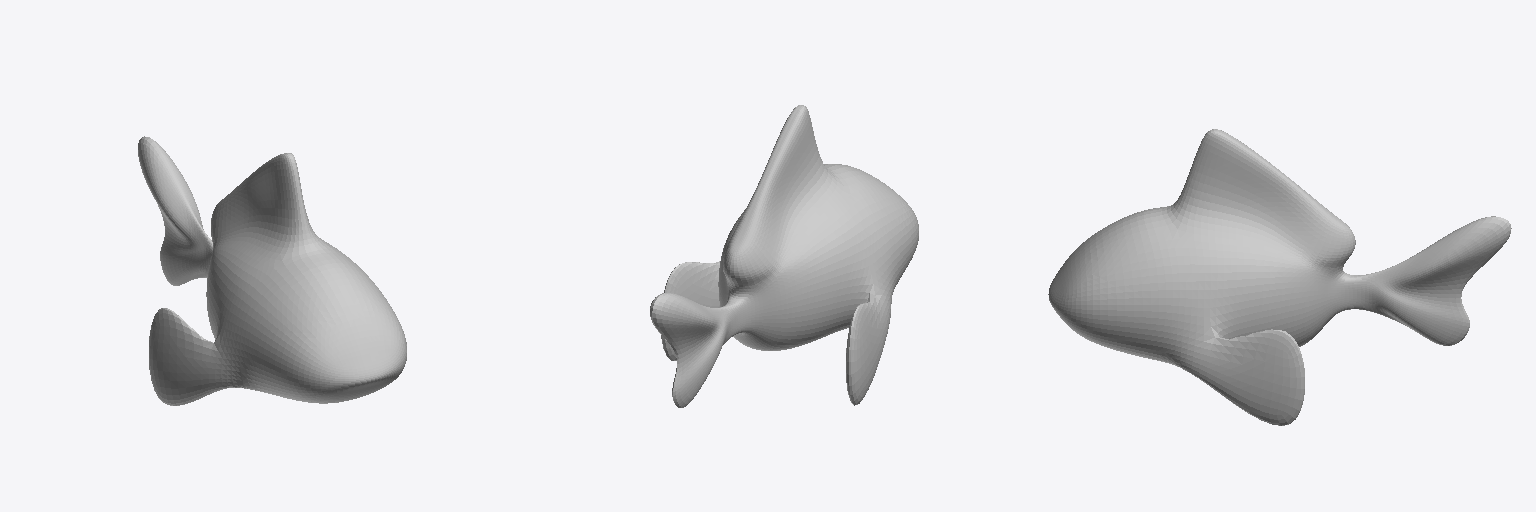
The model's file is blub.obj.
The picture shows the model from 3 angles: view 1: azimuth 30°, elevation 25°; view 2: azimuth 150°, elevation 25°; view 3: azimuth 270°, elevation 25°; orthographic projection.
Visible parts, largest first — view 1: blub_triangulated; view 2: blub_triangulated; view 3: blub_triangulated.
Part boxes in pixels (left/top/right/bottom): blub_triangulated: left=138, top=136, right=406, bottom=405; blub_triangulated: left=650, top=105, right=918, bottom=407; blub_triangulated: left=1048, top=129, right=1511, bottom=425.
Bounding box in the file's own units: 1.42 × 1.75 × 2.91.